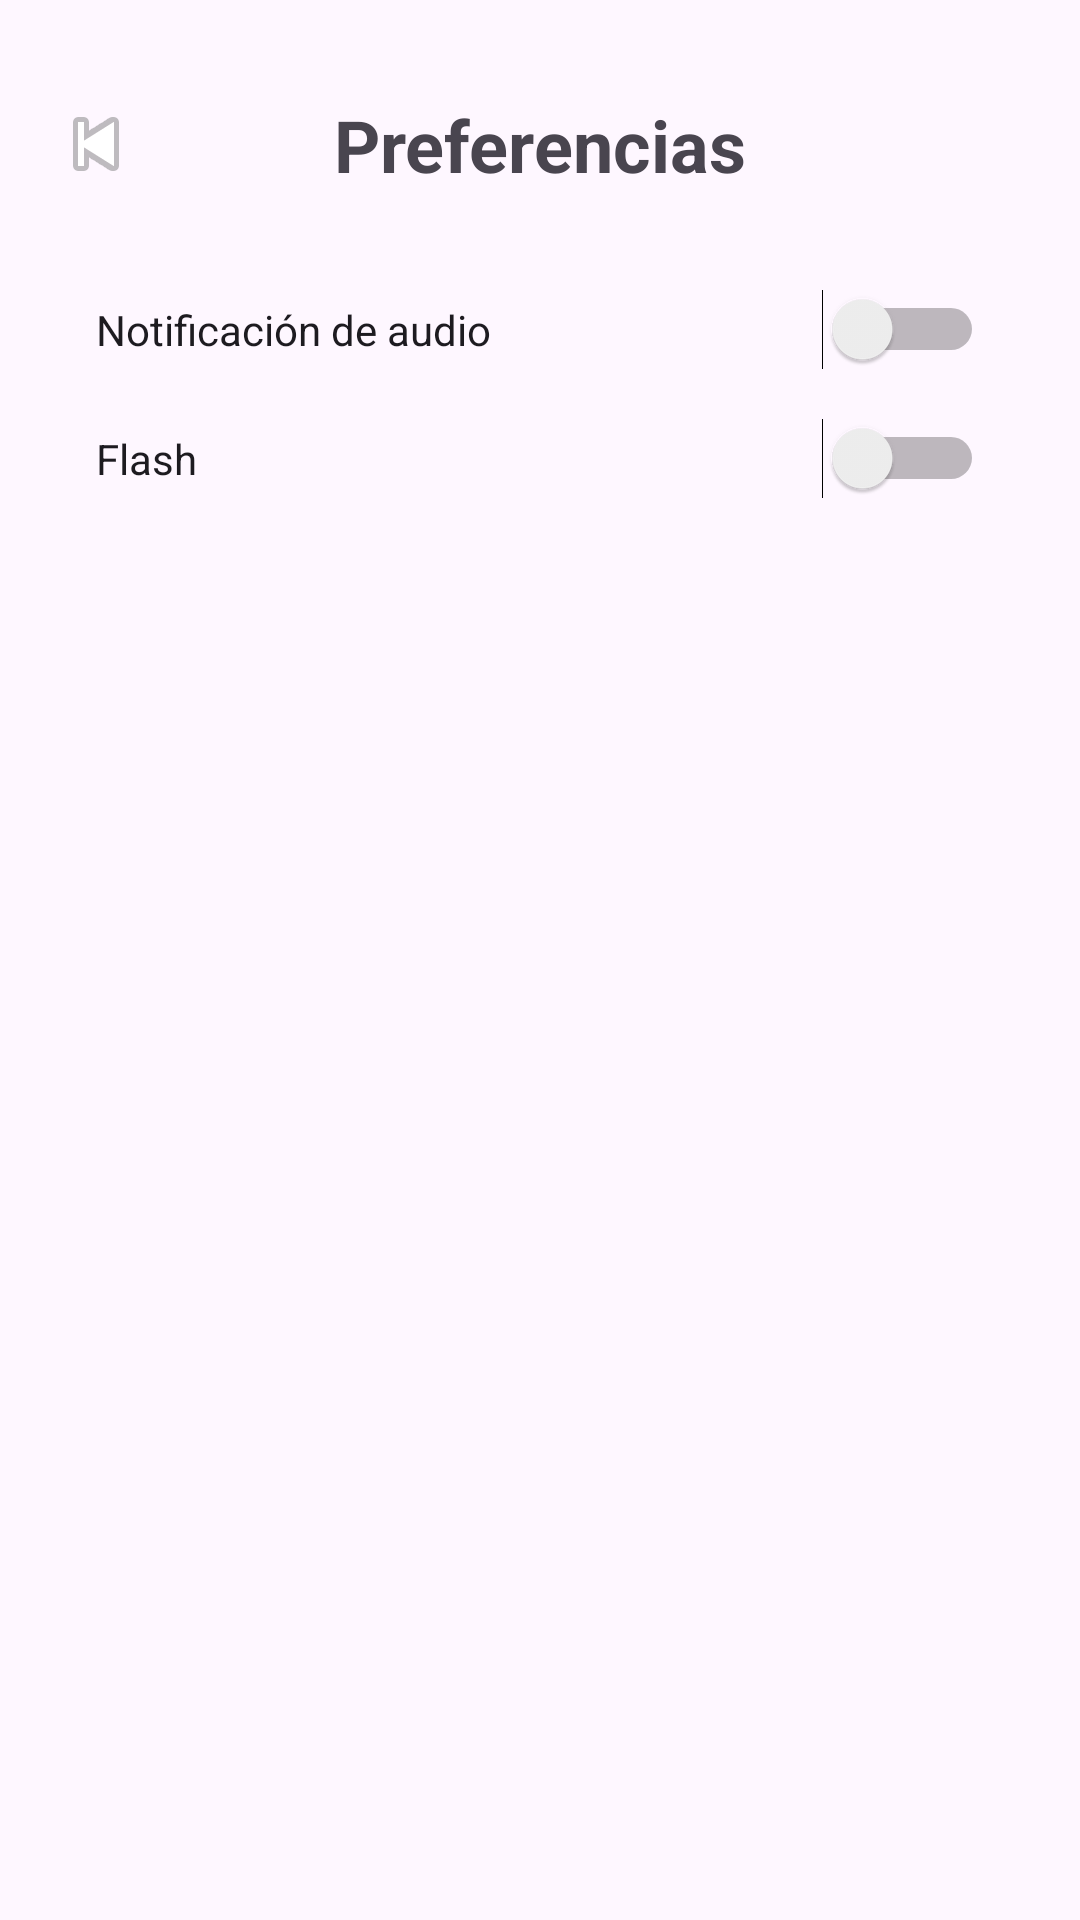

Where to tap for icons on this 1080×1920 app screen, as point (x, y):
previous: point (96, 144)
